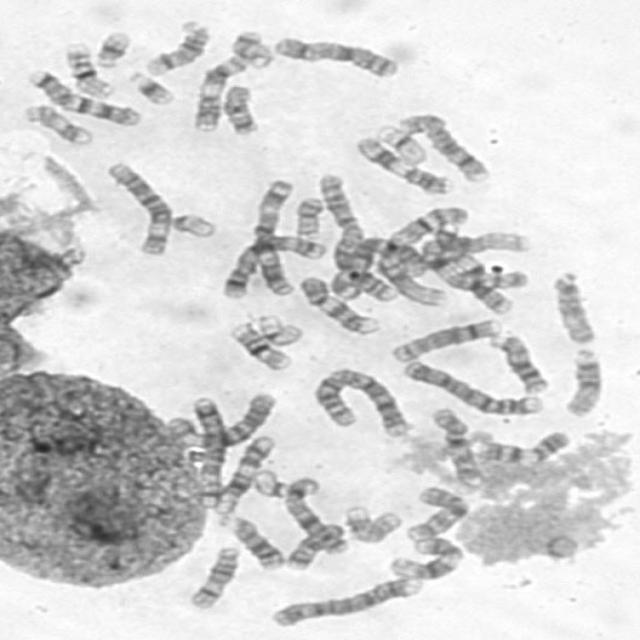A1: (366, 202, 470, 306), (416, 231, 538, 295)
A2: (312, 168, 395, 303), (307, 363, 413, 439)
A3: (337, 228, 435, 303), (247, 175, 298, 296)
B4: (396, 355, 546, 418), (263, 572, 424, 630)
B5: (216, 230, 330, 300), (184, 392, 229, 509)
C10: (426, 403, 482, 492), (399, 482, 471, 543)
C11: (348, 130, 453, 197), (187, 50, 252, 133)
C12: (210, 431, 278, 516), (383, 532, 467, 581)
C6: (100, 157, 174, 257), (162, 386, 279, 449)
C7: (422, 226, 520, 315), (21, 64, 144, 127)
C8: (390, 108, 492, 183), (384, 314, 503, 364)
C9: (292, 272, 383, 336), (467, 427, 572, 466)
D13: (212, 509, 286, 572), (482, 329, 552, 395)
D14: (138, 16, 214, 77), (182, 541, 242, 611)
D15: (545, 266, 599, 346), (557, 343, 605, 418)
E16: (223, 318, 293, 372), (58, 39, 115, 99)
E17: (17, 99, 95, 147), (337, 502, 404, 544)
E18: (279, 518, 345, 571), (216, 80, 260, 136)
F19: (371, 120, 429, 166), (250, 310, 304, 348)
F20: (224, 26, 274, 70), (290, 192, 325, 240)
G21: (122, 67, 176, 106), (88, 26, 134, 70)
G22: (241, 462, 297, 499), (165, 208, 218, 239)
X: (268, 32, 402, 79), (278, 473, 350, 558)
